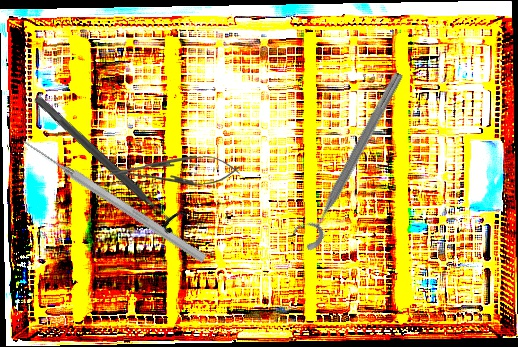Fixation Ring: (25, 86, 190, 238), (287, 63, 409, 254)
Needle Holder: (107, 153, 241, 188)
Pusher: (19, 135, 209, 265)
